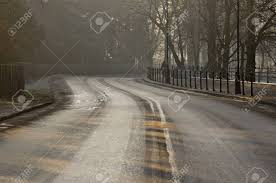strada: (0, 84, 276, 183)
